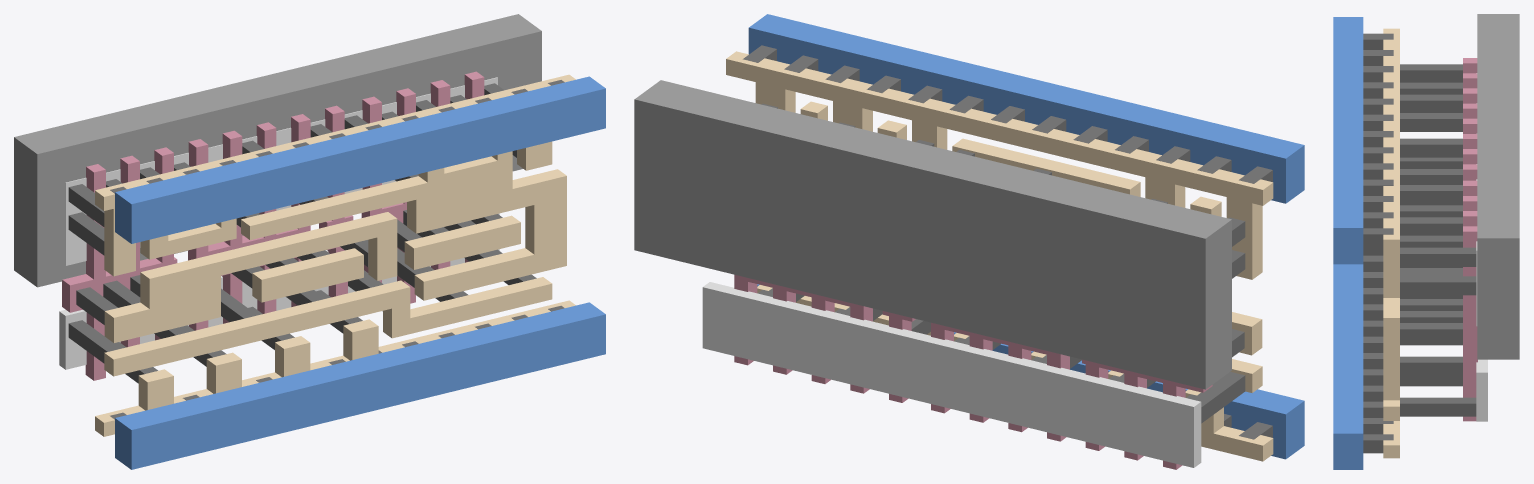
Rendered from sky130_fd_sc_hd__o21ai_4.gds.gltf.
The picture shows the model from 3 angles, left to right: view 1: azimuth 30°, elevation 25°; view 2: azimuth 150°, elevation 25°; view 3: azimuth 270°, elevation 25°; orthographic projection. The views are drawn at different scales.
Parts seen in each view (by area): view 1: sky130_fd_sc_hd__o21ai_4_li1, sky130_fd_sc_hd__o21ai_4_met1, sky130_fd_sc_hd__o21ai_4_nwell, sky130_fd_sc_hd__o21ai_4_poly, sky130_fd_sc_hd__o21ai_4_licon, sky130_fd_sc_hd__o21ai_4_diff, sky130_fd_sc_hd__o21ai_4_mcon; view 2: sky130_fd_sc_hd__o21ai_4_nwell, sky130_fd_sc_hd__o21ai_4_diff, sky130_fd_sc_hd__o21ai_4_li1, sky130_fd_sc_hd__o21ai_4_met1, sky130_fd_sc_hd__o21ai_4_poly, sky130_fd_sc_hd__o21ai_4_mcon, sky130_fd_sc_hd__o21ai_4_licon; view 3: sky130_fd_sc_hd__o21ai_4_licon, sky130_fd_sc_hd__o21ai_4_nwell, sky130_fd_sc_hd__o21ai_4_met1, sky130_fd_sc_hd__o21ai_4_mcon, sky130_fd_sc_hd__o21ai_4_li1, sky130_fd_sc_hd__o21ai_4_poly, sky130_fd_sc_hd__o21ai_4_diff.
Part boxes in pixels (x1,y1,x2,y2): sky130_fd_sc_hd__o21ai_4_li1: (95, 74, 575, 436); sky130_fd_sc_hd__o21ai_4_met1: (115, 76, 605, 469); sky130_fd_sc_hd__o21ai_4_nwell: (14, 14, 541, 287); sky130_fd_sc_hd__o21ai_4_poly: (62, 71, 484, 380); sky130_fd_sc_hd__o21ai_4_licon: (68, 83, 536, 383); sky130_fd_sc_hd__o21ai_4_diff: (59, 77, 499, 369); sky130_fd_sc_hd__o21ai_4_mcon: (110, 80, 564, 419); sky130_fd_sc_hd__o21ai_4_nwell: (634, 80, 1231, 389); sky130_fd_sc_hd__o21ai_4_diff: (702, 282, 1201, 467); sky130_fd_sc_hd__o21ai_4_li1: (726, 51, 1273, 461); sky130_fd_sc_hd__o21ai_4_met1: (748, 14, 1304, 459); sky130_fd_sc_hd__o21ai_4_poly: (734, 274, 1212, 469); sky130_fd_sc_hd__o21ai_4_mcon: (743, 45, 1272, 439); sky130_fd_sc_hd__o21ai_4_licon: (758, 103, 1245, 423); sky130_fd_sc_hd__o21ai_4_licon: (1400, 64, 1476, 416); sky130_fd_sc_hd__o21ai_4_nwell: (1477, 14, 1519, 359); sky130_fd_sc_hd__o21ai_4_met1: (1333, 17, 1363, 469); sky130_fd_sc_hd__o21ai_4_mcon: (1363, 33, 1393, 453); sky130_fd_sc_hd__o21ai_4_li1: (1383, 28, 1399, 458); sky130_fd_sc_hd__o21ai_4_poly: (1463, 58, 1477, 421); sky130_fd_sc_hd__o21ai_4_diff: (1476, 73, 1487, 421).
Size of the model in its own units: 6.36 by 3.2 by 2.24.
